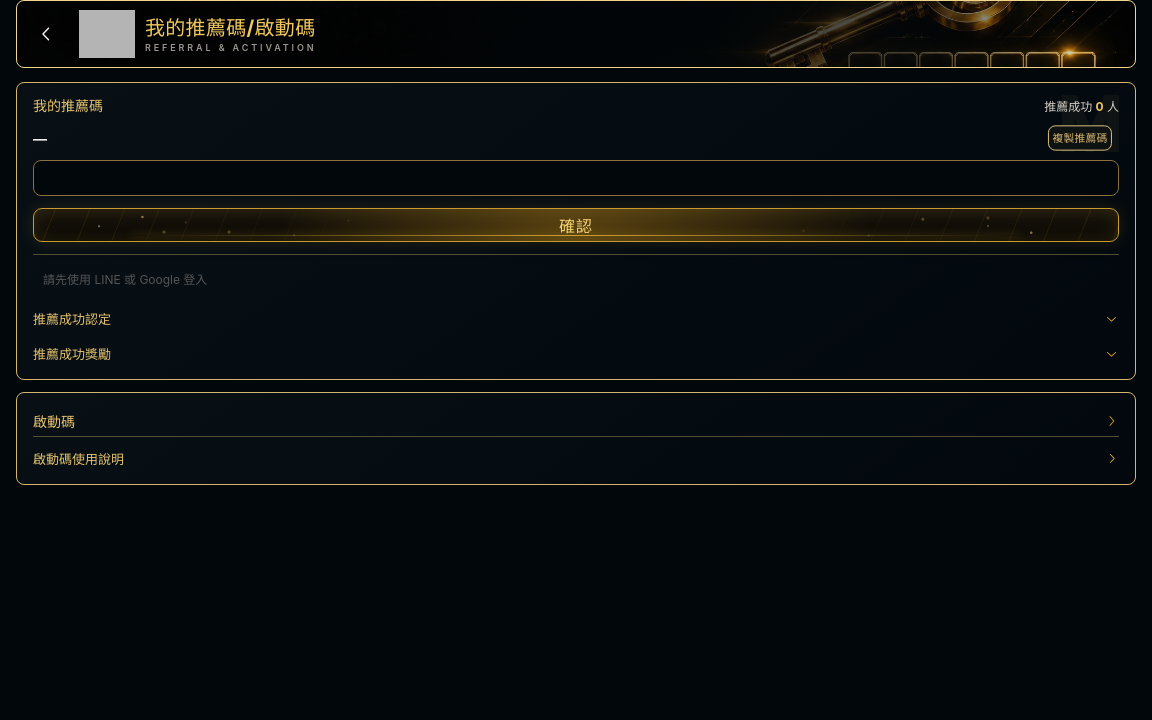
referral page login state › tells signed-out visitors to log in without requesting member data
expect the text "請先使用 LINE 或 Google 登入" is shown: met, box [43,272,207,287]
expect the field named "推薦碼" is disabled: met, box [33,160,1119,196]
Click the button "啟動碼".
click(54, 421)  # box [33,405,1119,437]
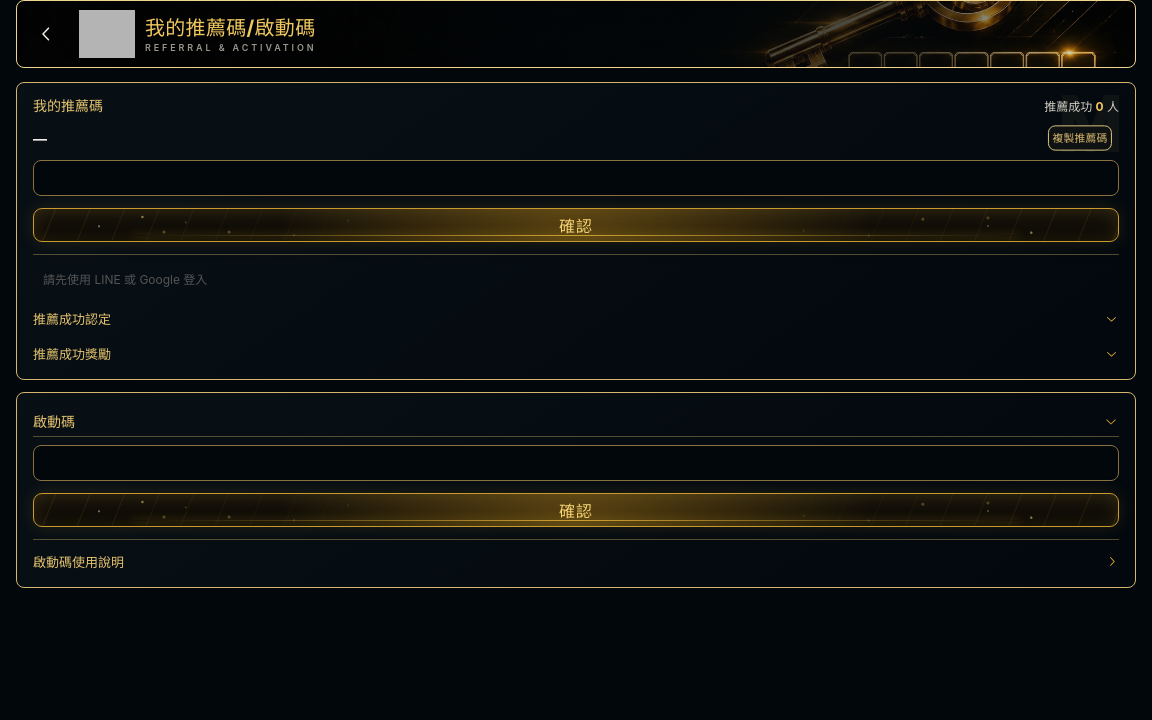
expect the field named "啟動碼" is disabled: met, box [33,445,1119,481]
expect the 2nd button "確認" is disabled: met, box [33,493,1119,527]
